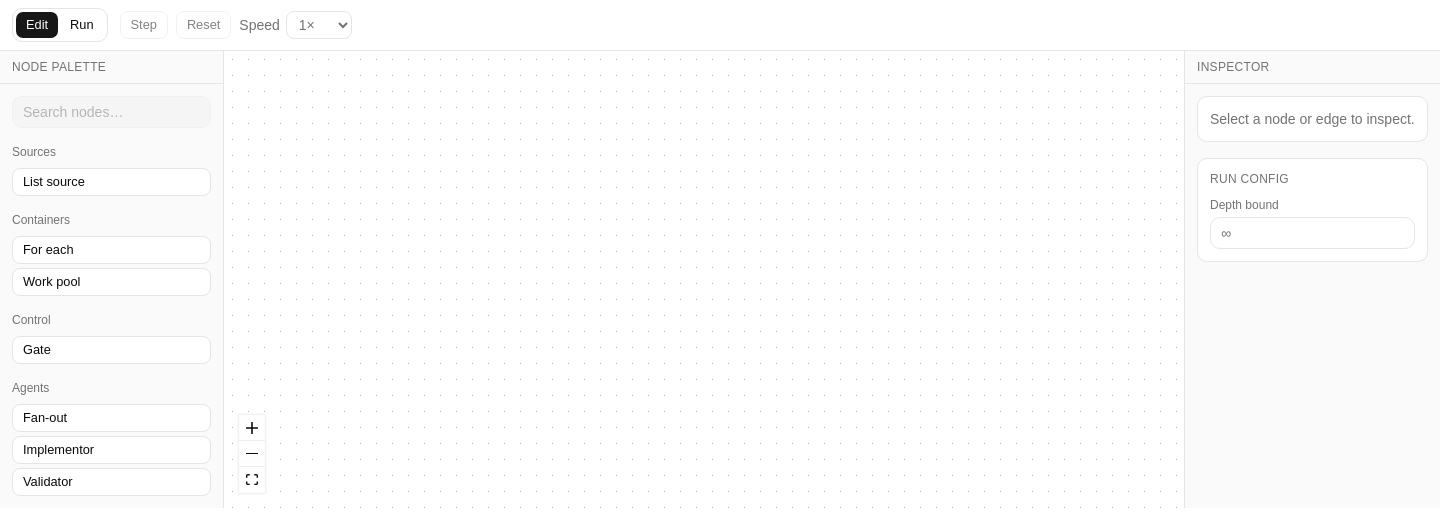
run overlay rendering › renders concurrent cursors and a live pool ledger in Run mode
Click the button with test id "mode-run" at (82, 25), box [59,11,105,39]
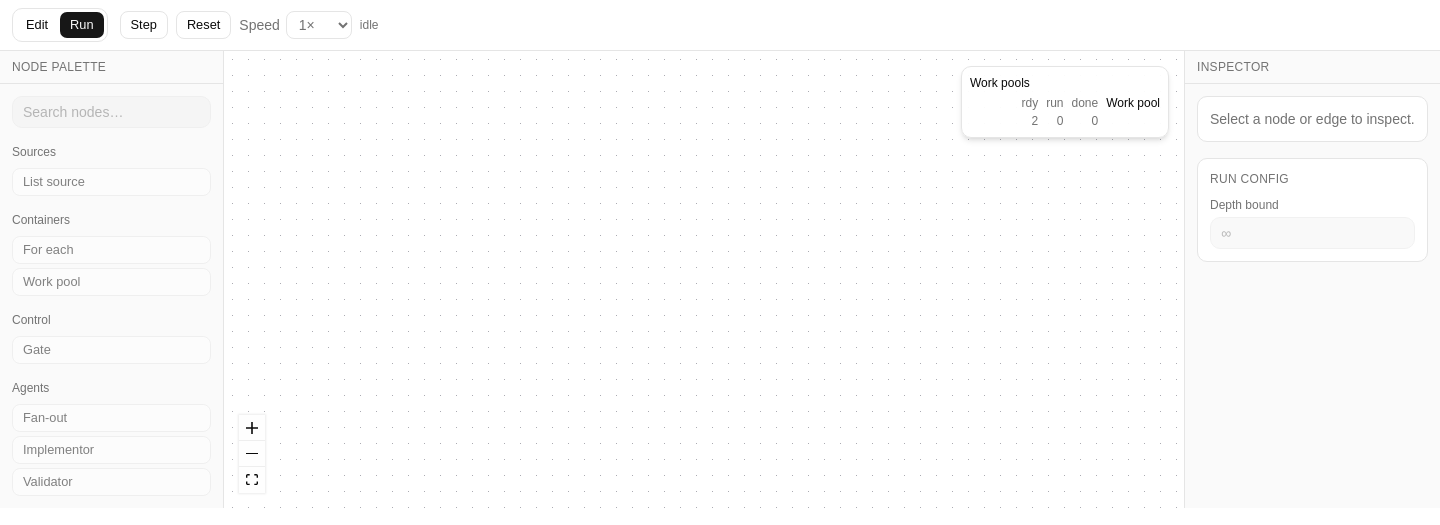
Click the button with test id "run-step" at (144, 25), box [120,11,168,39]
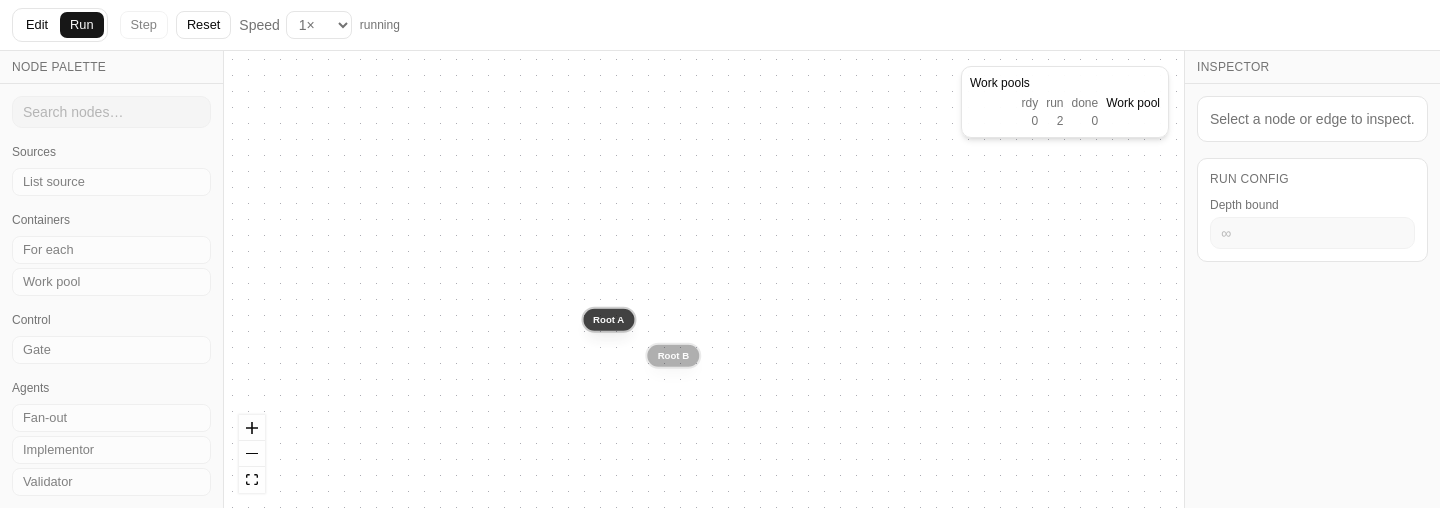
Expected: the element with test id "run-cursor-root-a" is shown, [583,308,634,331]
Expected: the element with test id "run-cursor-root-b" is shown, [648,345,699,367]
